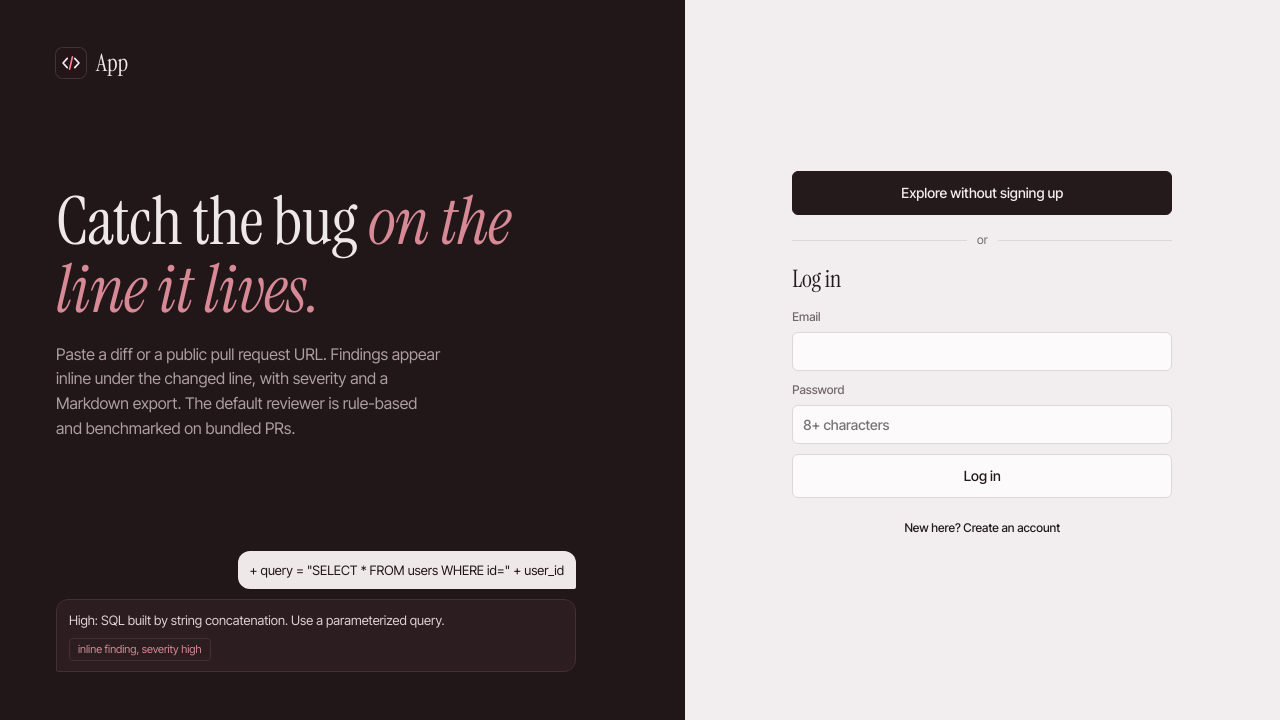
Test: guest mode skips login
Click the button "Explore without signing up" at [982, 193], box [792,171,1172,215]
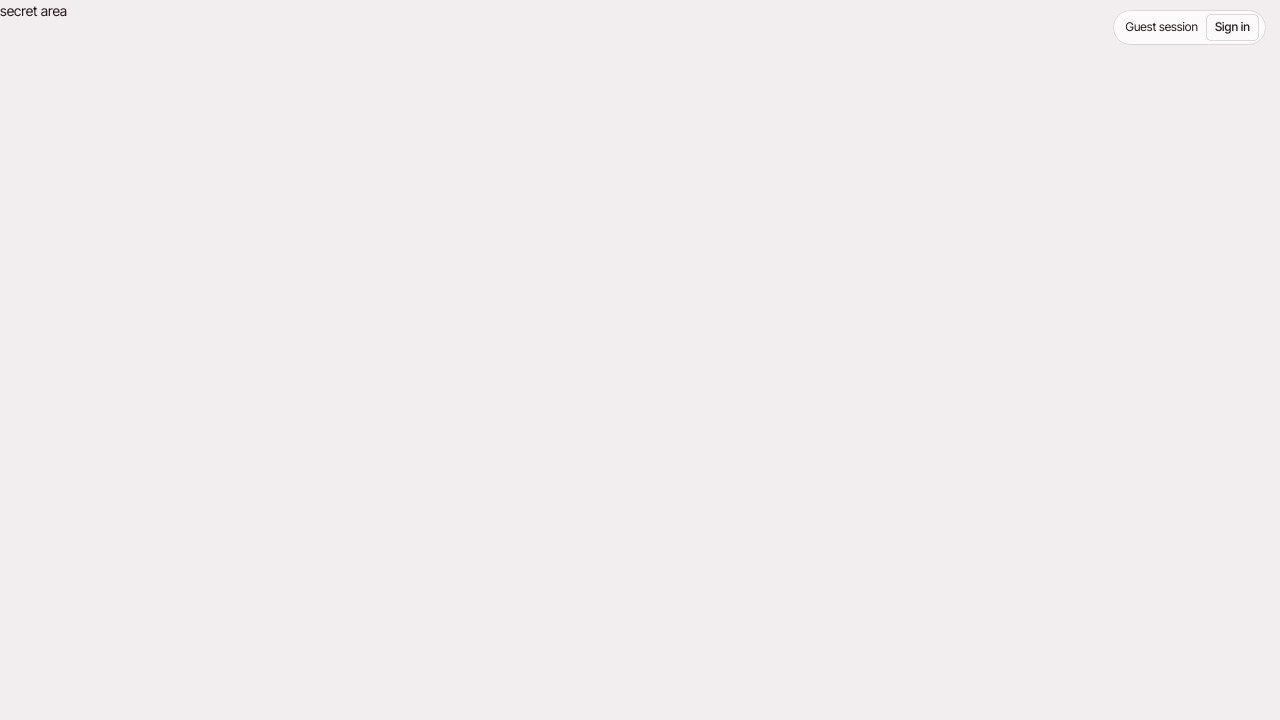
Check: the text "secret area" is shown, box [0,2,67,19]
